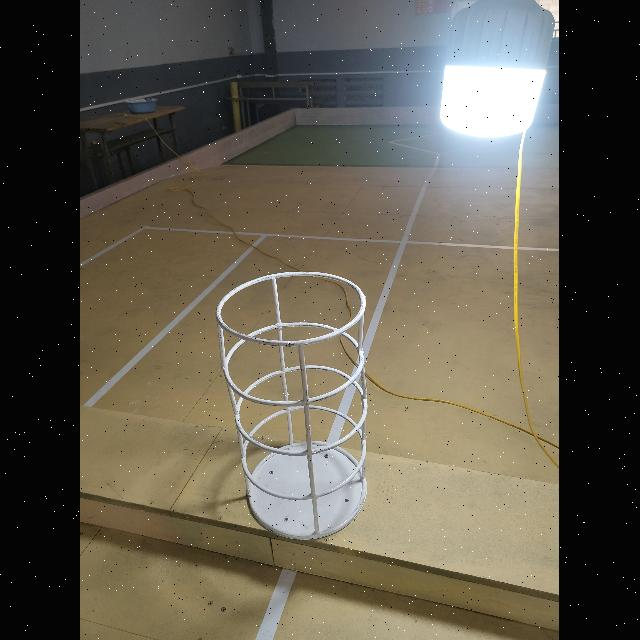S: (214, 266, 372, 547)
